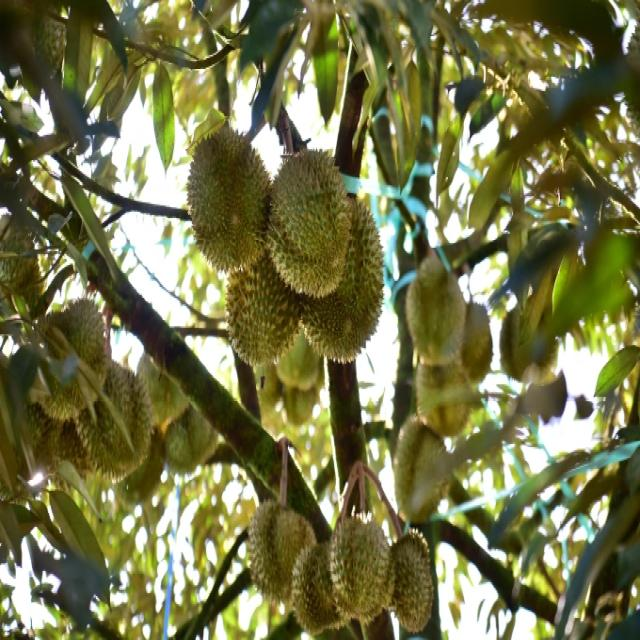immature: (302, 184, 386, 363), (185, 122, 272, 276), (266, 145, 351, 299), (77, 359, 156, 488), (225, 250, 306, 370), (328, 510, 394, 628), (247, 496, 312, 604), (389, 535, 436, 638)
